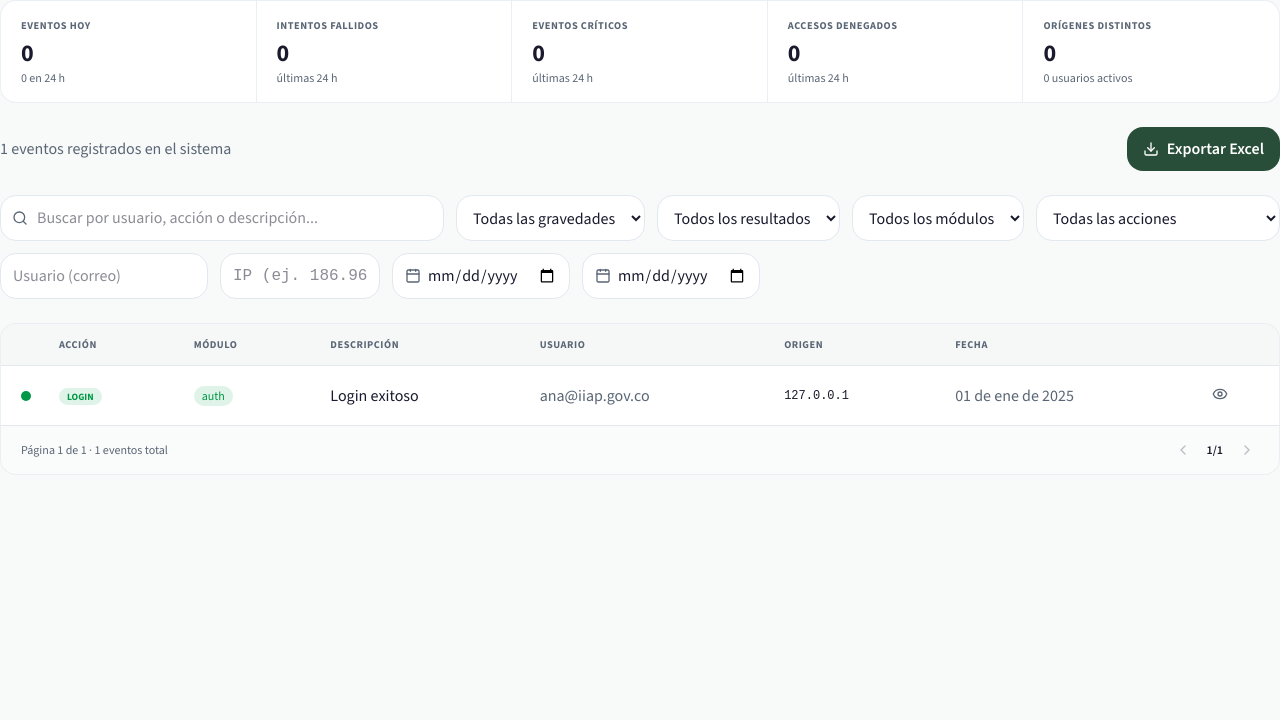
Test: AuditoriaTab — detalle del evento › un evento sin datos del navegador lo dice y no muestra User-Agent
Click the button named "Ver detalle de Login" at (1220, 394), box [1206, 380, 1234, 408]
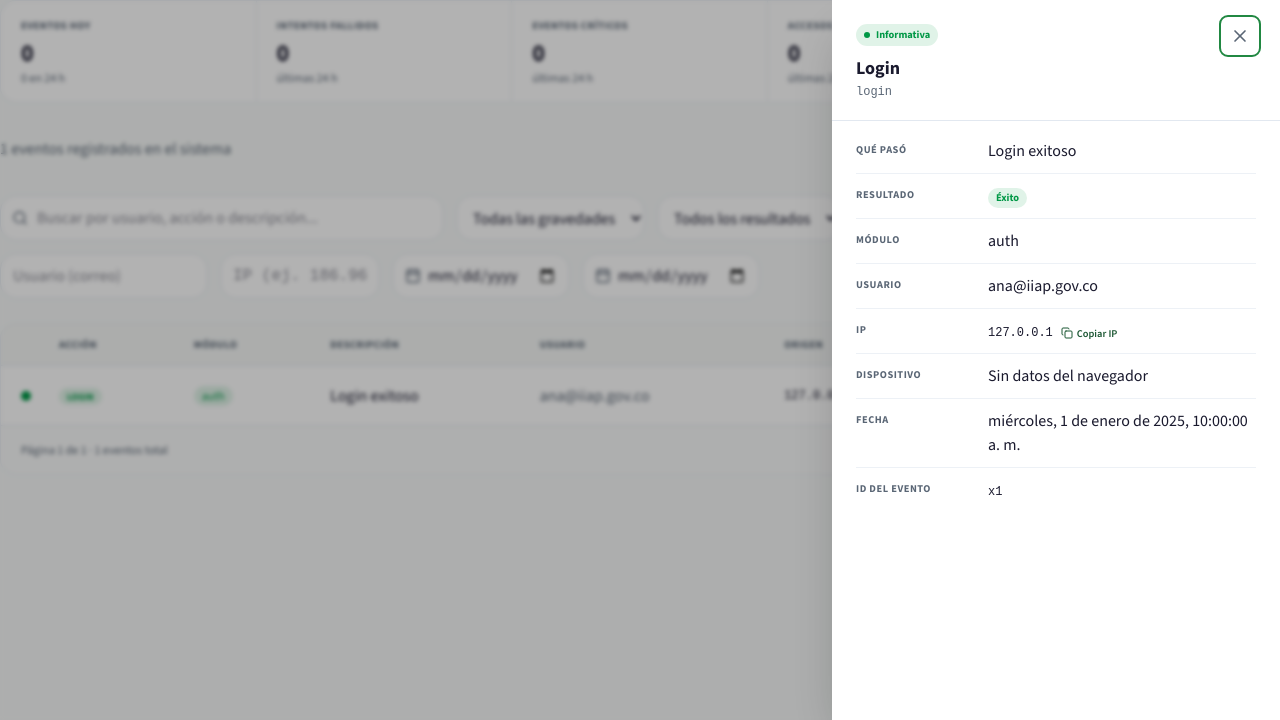
Expected: the text "Sin datos del navegador" is shown, [988, 365, 1148, 386]
